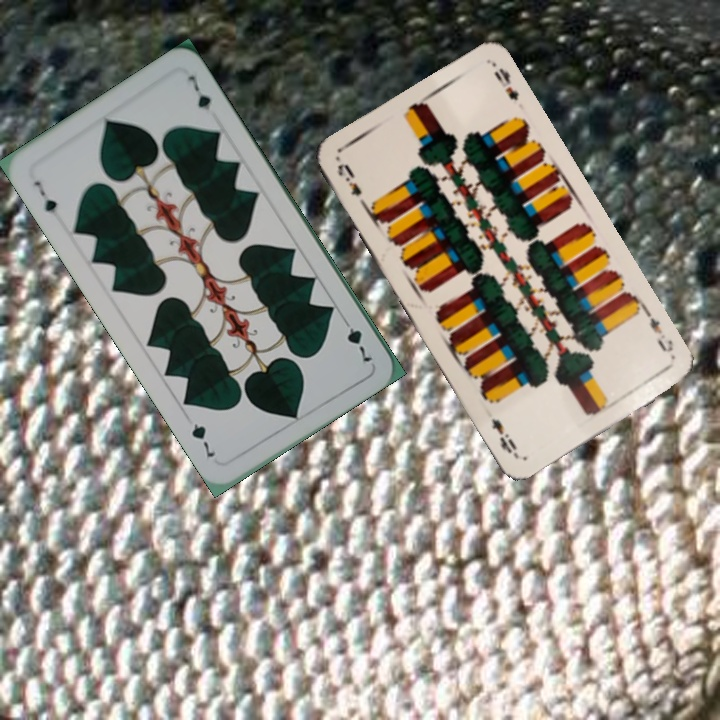E9: (333, 159, 370, 210), (642, 308, 677, 356)
G7: (338, 313, 375, 365), (29, 176, 60, 216)
